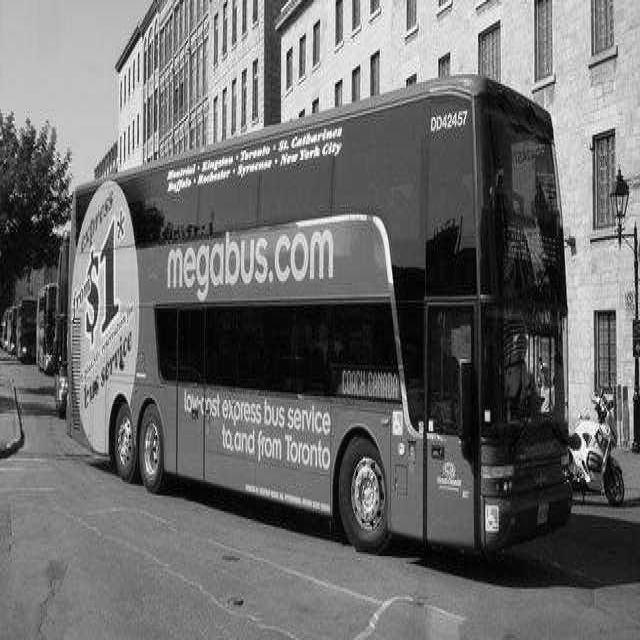Bus: (66, 78, 570, 552)
